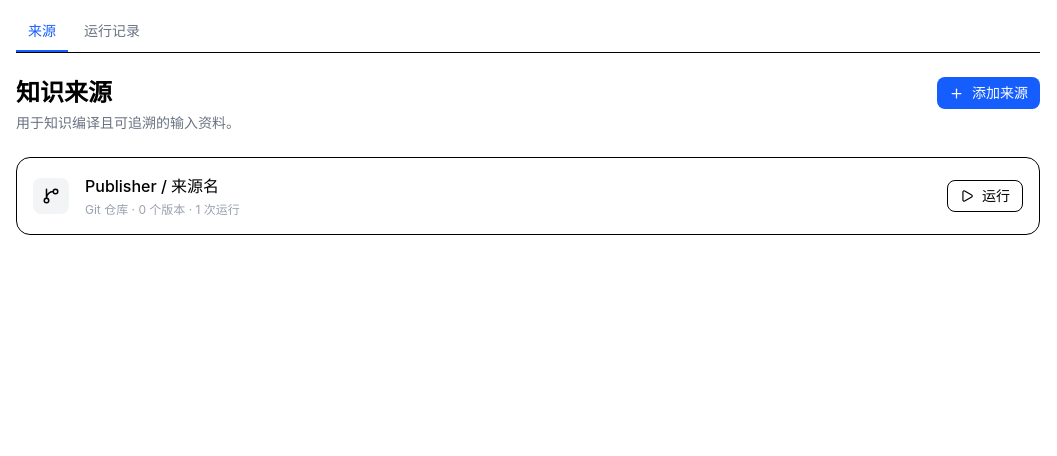
Test: SourcesPage file upload › shows archived source status and publishing run status in zh-CN
Click the button "Publisher / 来源名 Git 仓库 · 0 个版本 · 1 次运行".
click(152, 186)  # box [85,174,931,218]
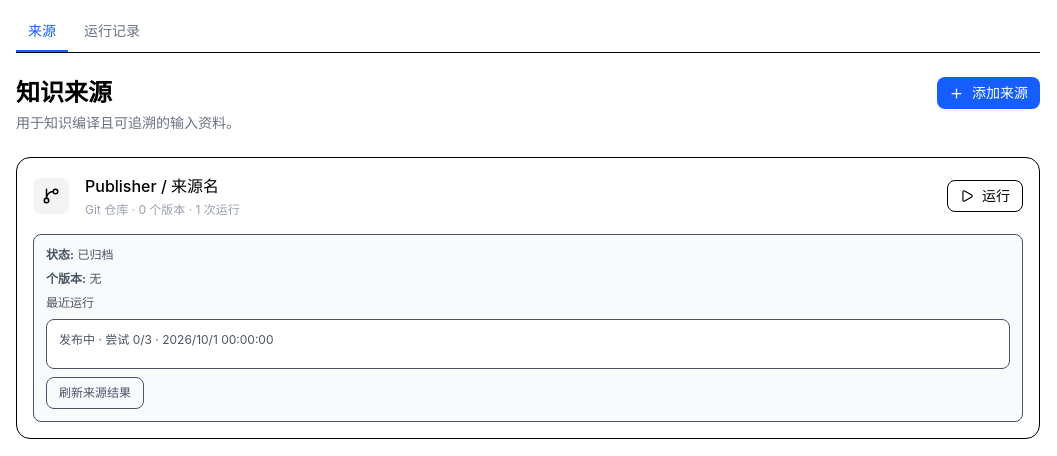
Expected: the text "Publisher / 来源名" is shown, [85,176,219,196]
Expected: the text "已归档" is shown, [77,247,113,262]
Expected: the text "发布中" is shown, [59,332,95,347]
